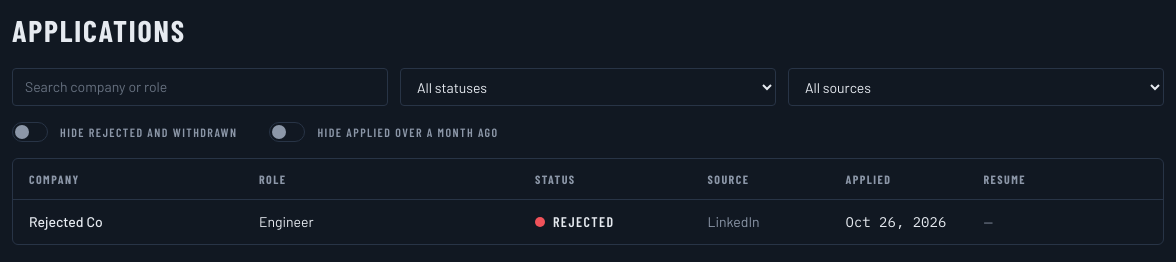
Test case: ApplicationsPage empty states › says nothing matches when filters hide every row
Click the switch labelled "Hide rejected and withdrawn" at (125, 132), box [12,122,238,142]
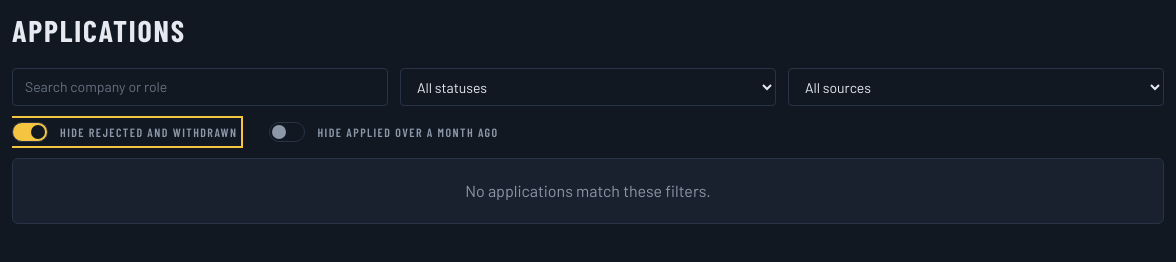
expect the text "No applications match these filters." is shown: met, box [12,158,1164,224]
